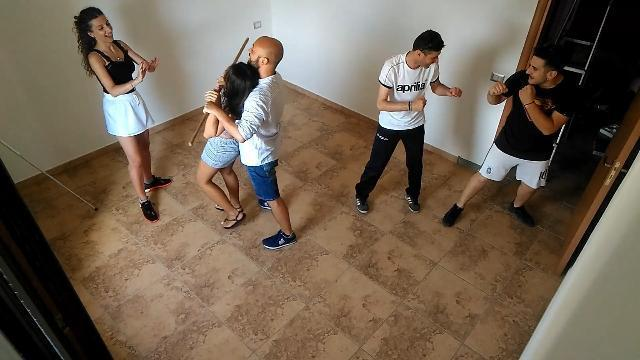non-violence: (76, 6, 172, 220)
violence: (356, 28, 572, 228), (189, 36, 297, 250)
